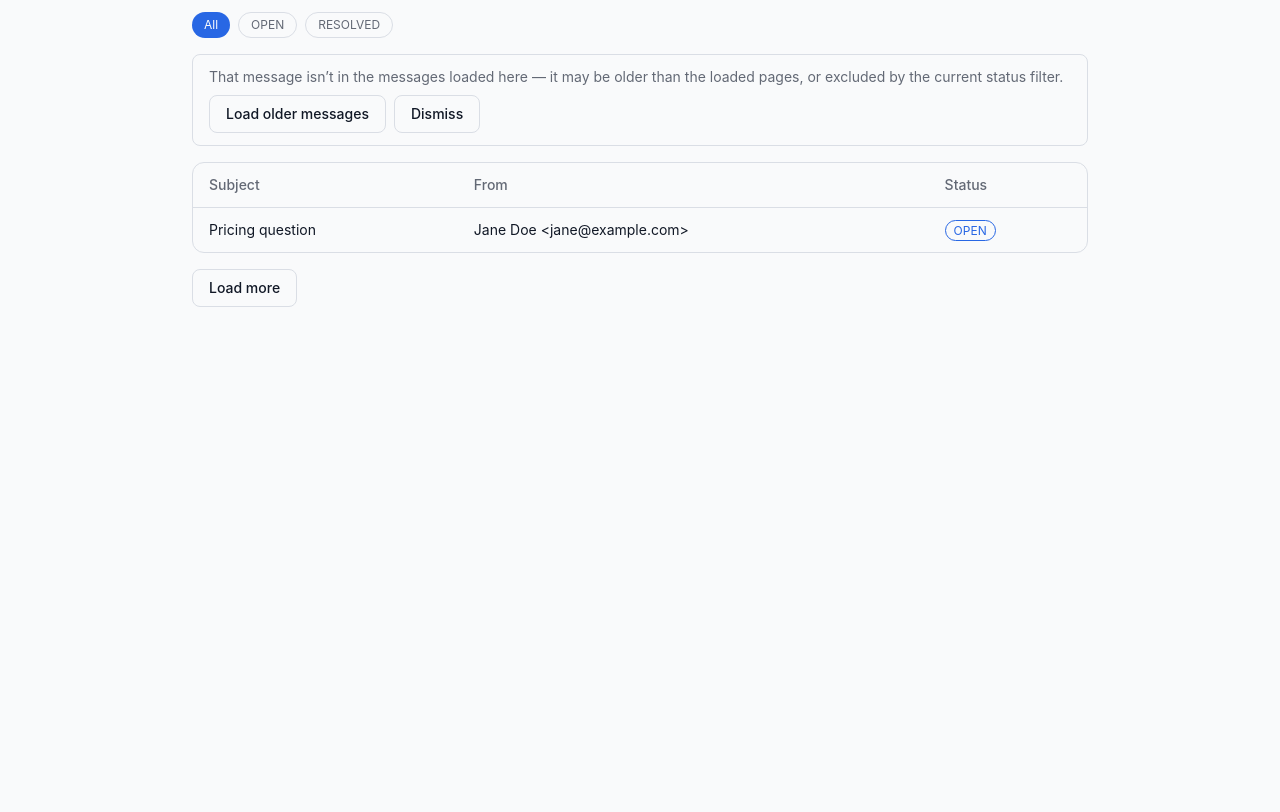
Test: InboxPage › opens the drawer without any notice once a later page contains the message
Click the button "Load older messages". click: (298, 114)
box: [209,95,386,133]
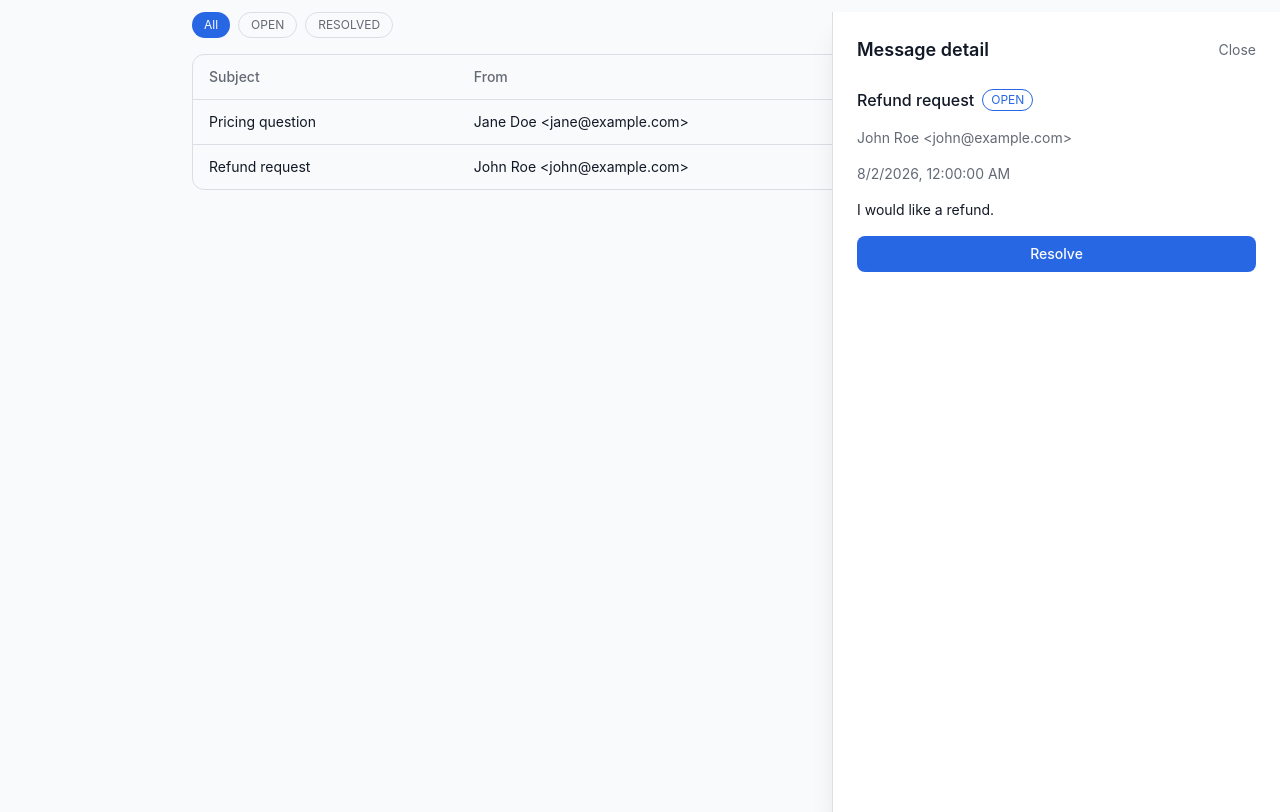
Now the text "I would like a refund." is shown, box [857,201,994,218]
Now the message is gone
